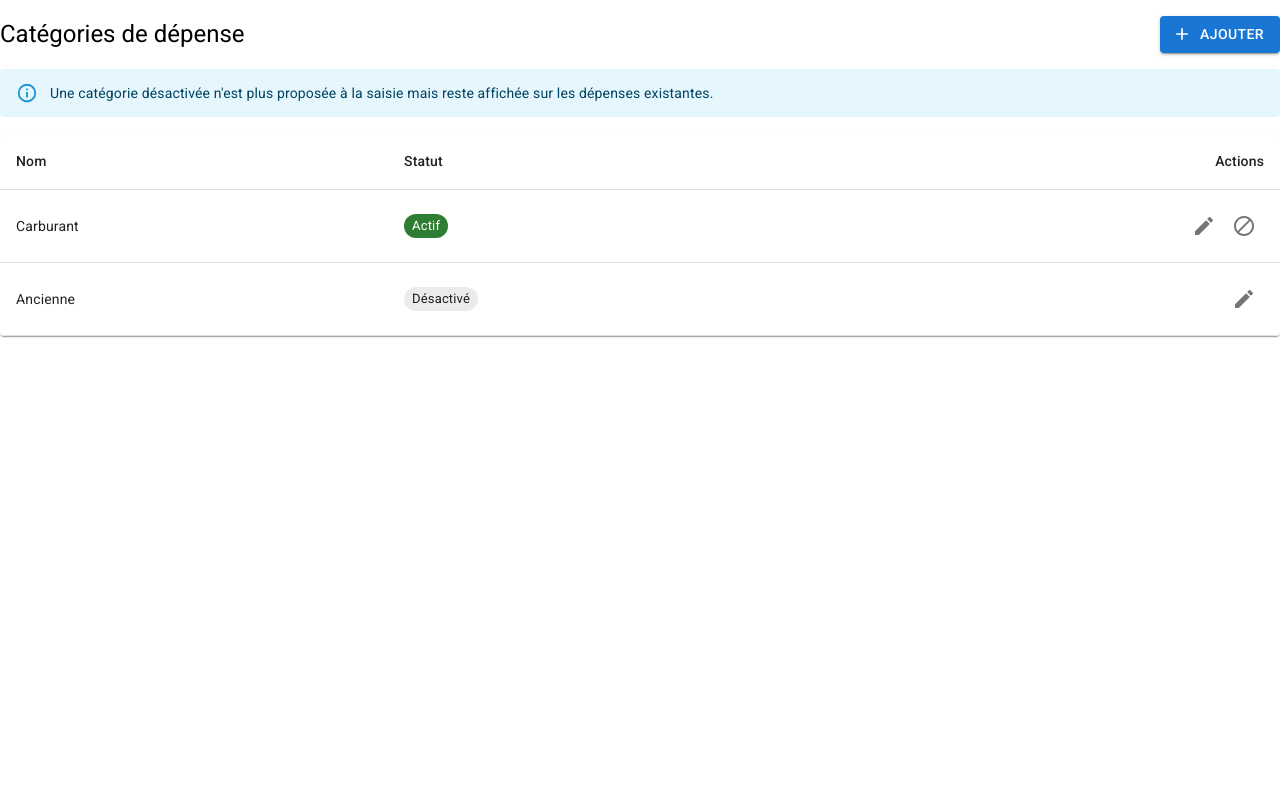
Test: ExpenseCategoriesPage › affiche l'erreur de nom vide renvoyée par l'API
This screenshot has width=1280, height=800.
Expected: the text "Carburant" is shown, x1=0 y1=189 x2=388 y2=262
Click the button "Ajouter" at coordinates (1220, 34), box x1=1160 y1=16 x2=1279 y2=52
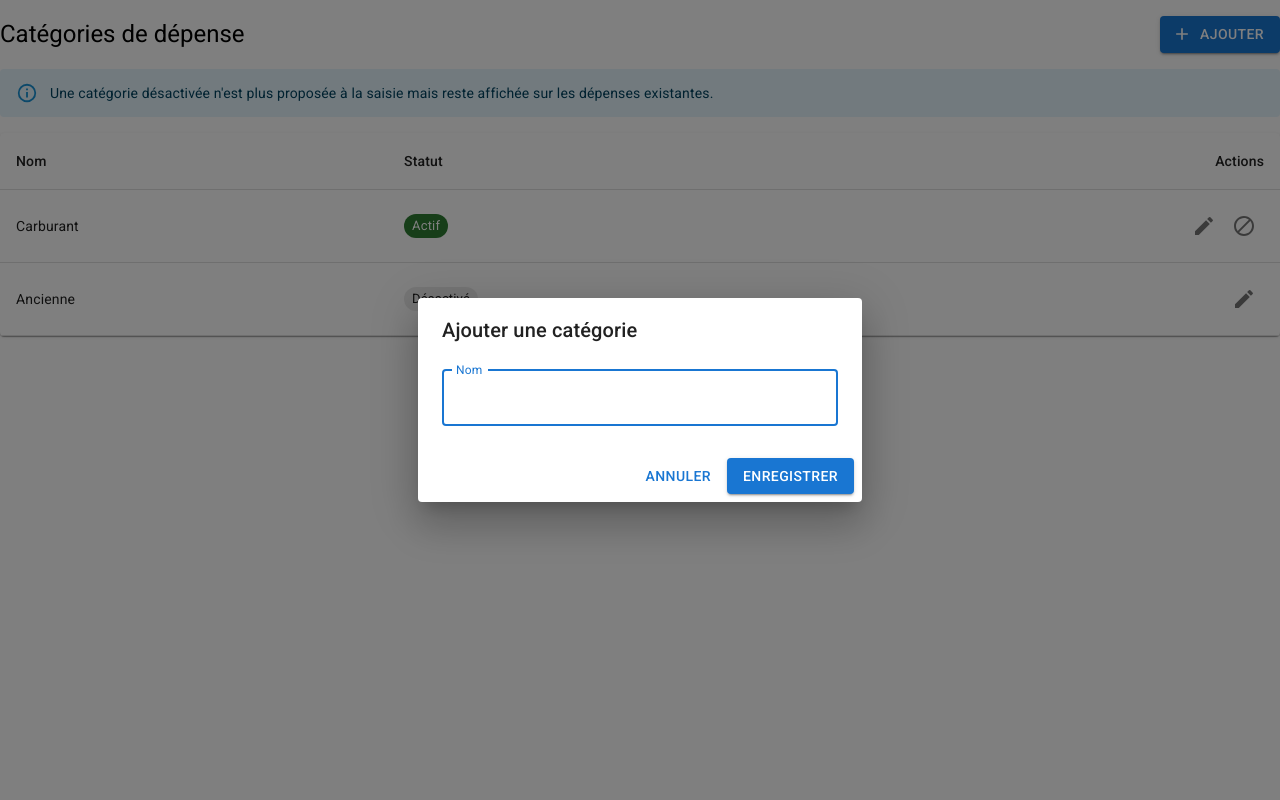
Click the button "Enregistrer" at coordinates (790, 476), box x1=727 y1=458 x2=854 y2=494
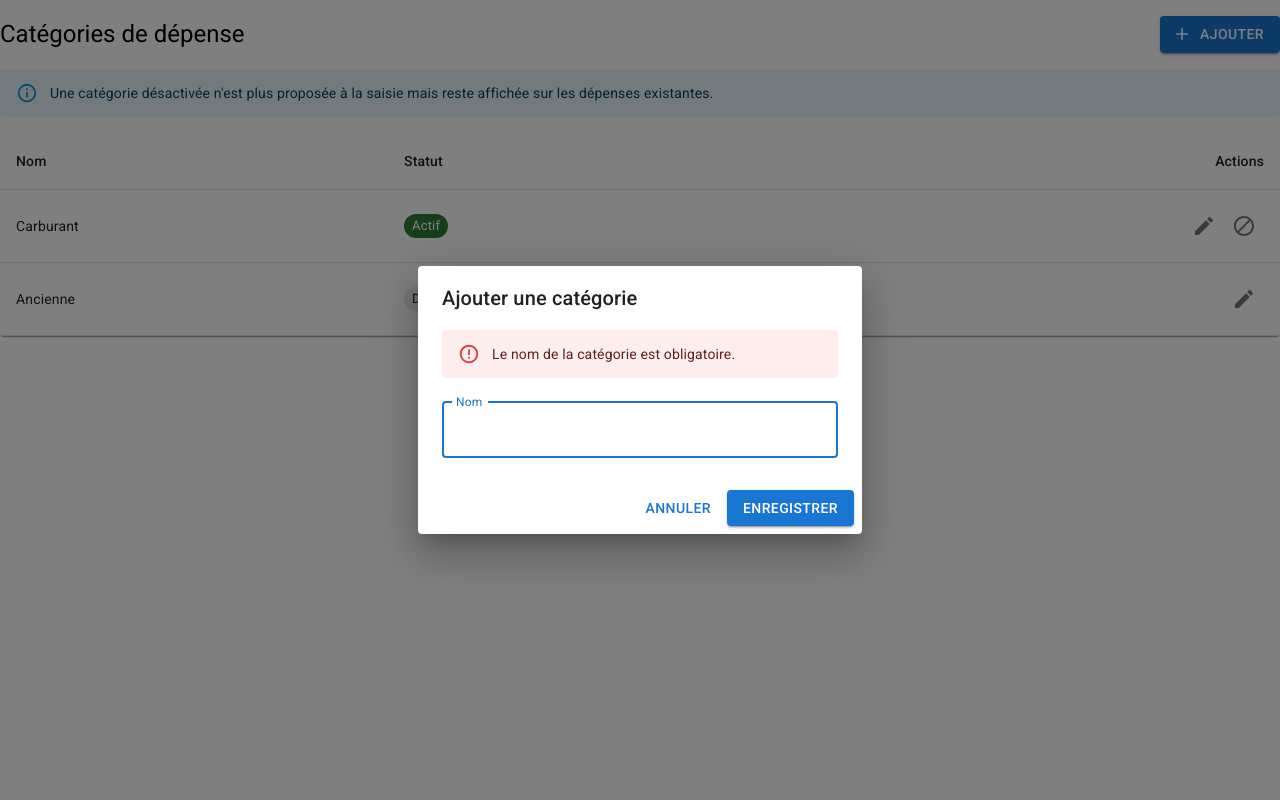
Now the text "Le nom de la catégorie est obligatoire." is shown, box x1=492 y1=346 x2=735 y2=362
